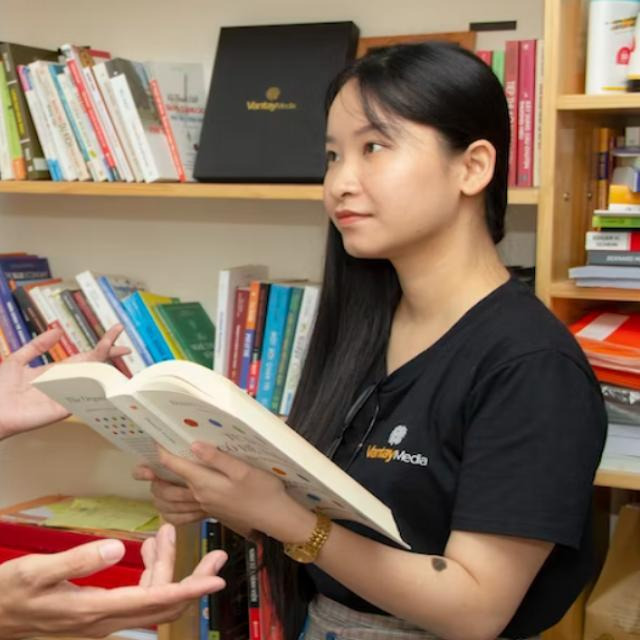Watch: (286, 508, 334, 574)
